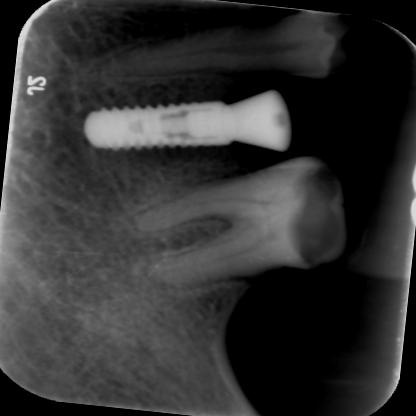ITI: (75, 96, 238, 155)
